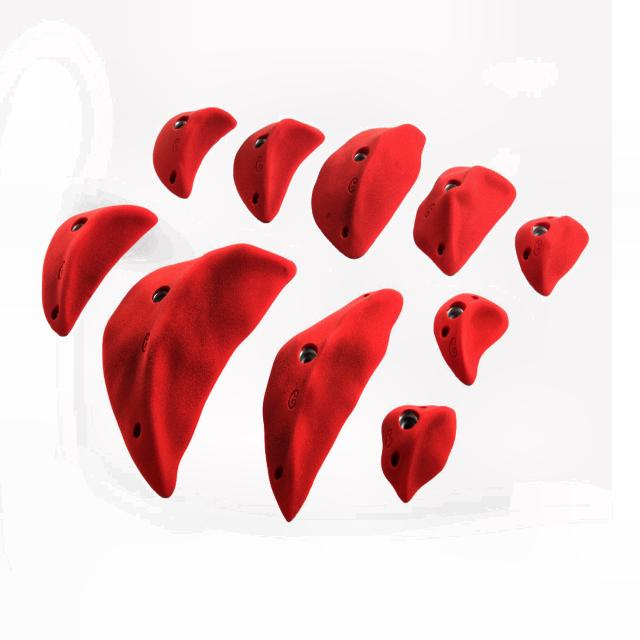Hold: (103, 236, 299, 502), (264, 289, 402, 525), (37, 204, 163, 340), (312, 121, 428, 265), (414, 160, 516, 276), (234, 116, 328, 224), (151, 106, 238, 201), (379, 404, 451, 506), (433, 296, 508, 387), (515, 216, 590, 298)
